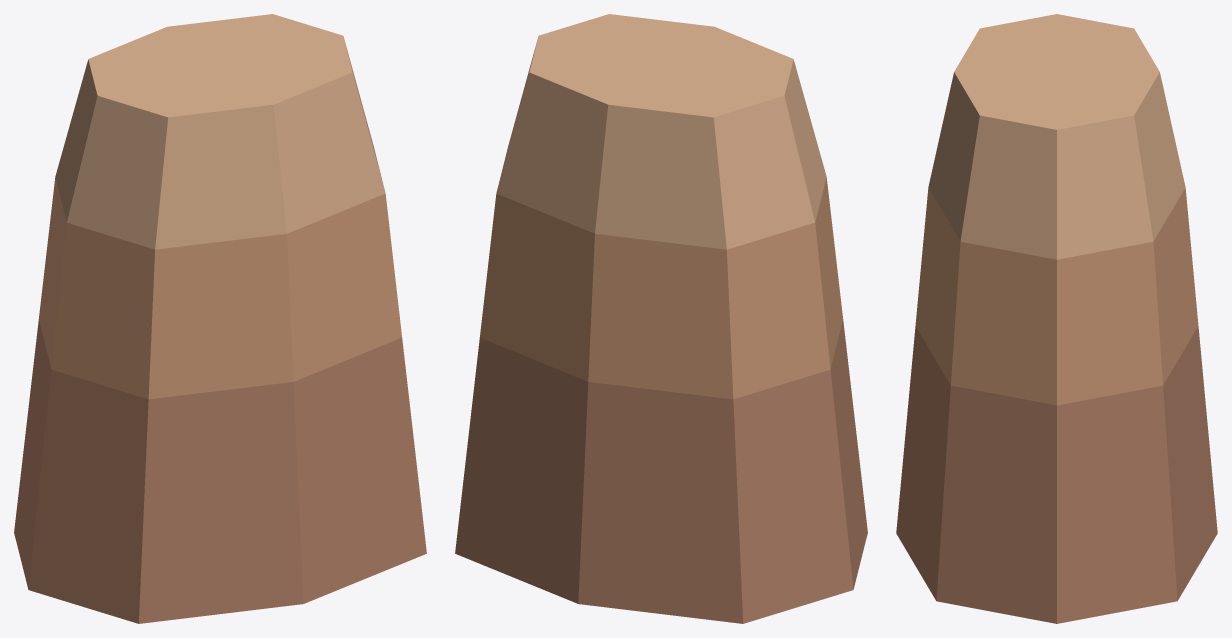
Rendered from sandstone-2.glb.
3 views of the same model, side by side, from view 1: azimuth 30°, elevation 25°; view 2: azimuth 150°, elevation 25°; view 3: azimuth 270°, elevation 25° (orthographic). The views are drawn at different scales.
Size of the model in its own units: 16 by 19 by 12.
